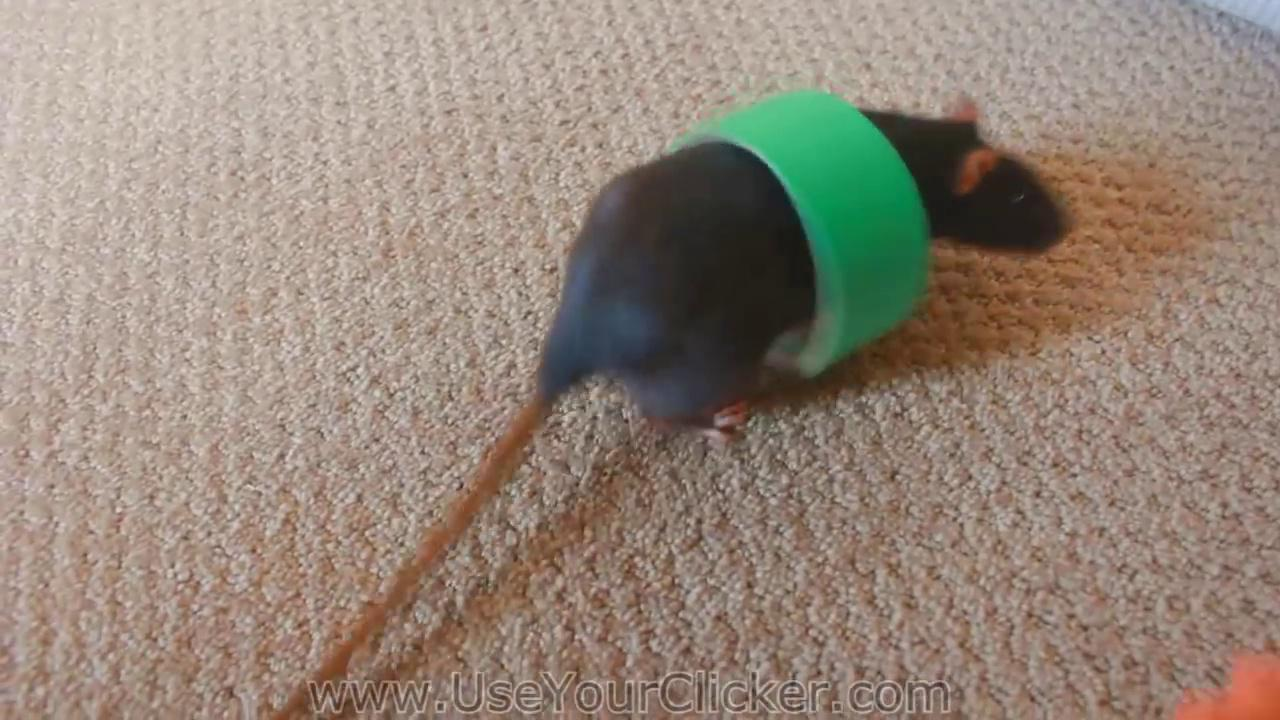rat: (267, 88, 1075, 720)
